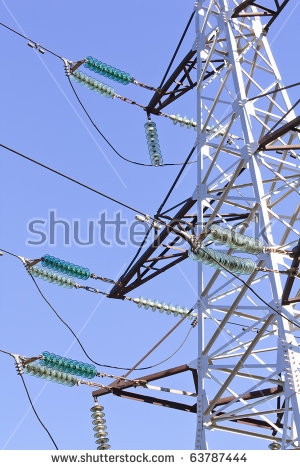isolator: (187, 224, 264, 275), (22, 350, 97, 388), (70, 56, 131, 99), (27, 254, 90, 289), (136, 296, 194, 321), (170, 112, 223, 137), (90, 405, 112, 449), (143, 121, 164, 167)
